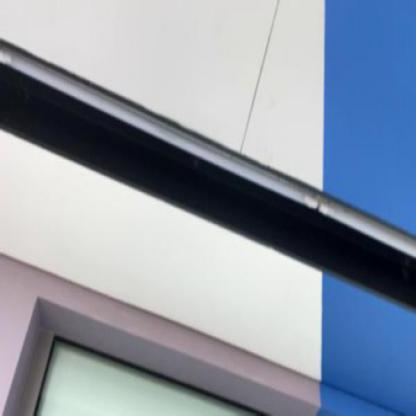light_off: (1, 30, 414, 309)
